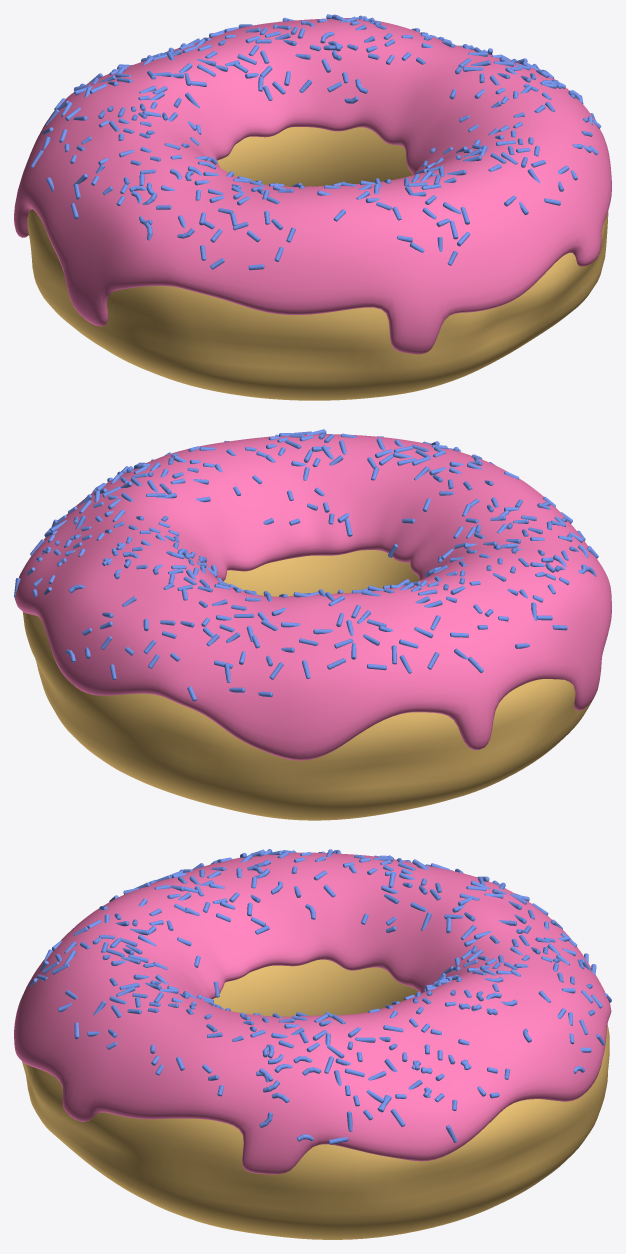
The model's file is dount.fbx.
The picture shows the model from 3 angles, top to bottom: view 1: azimuth 30°, elevation 25°; view 2: azimuth 150°, elevation 25°; view 3: azimuth 270°, elevation 25°; orthographic projection.
Parts seen in each view (by area): view 1: TOP, Bottom; view 2: TOP, Bottom; view 3: TOP, Bottom.
Boxes of the visible parts, box(x1,y1,x2,y2) form: TOP: box(14, 18, 611, 354); Bottom: box(27, 127, 608, 400); TOP: box(14, 434, 611, 760); Bottom: box(23, 550, 592, 820); TOP: box(14, 852, 611, 1174); Bottom: box(22, 959, 609, 1239).
Bounding box in the file's own units: 15.01 × 5.91 × 14.87.
